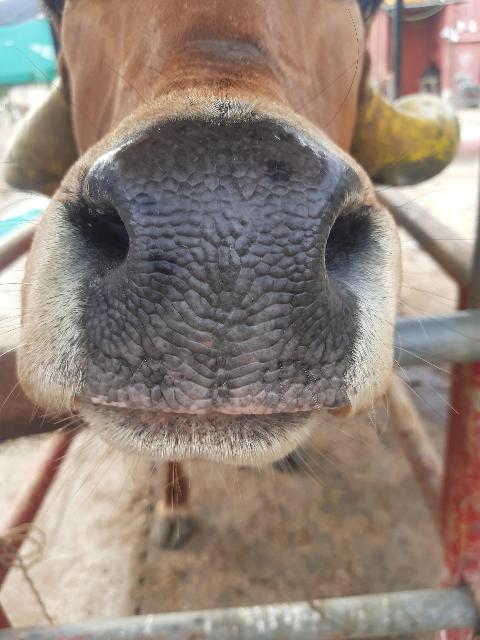Muzzle: (76, 136, 352, 412)
